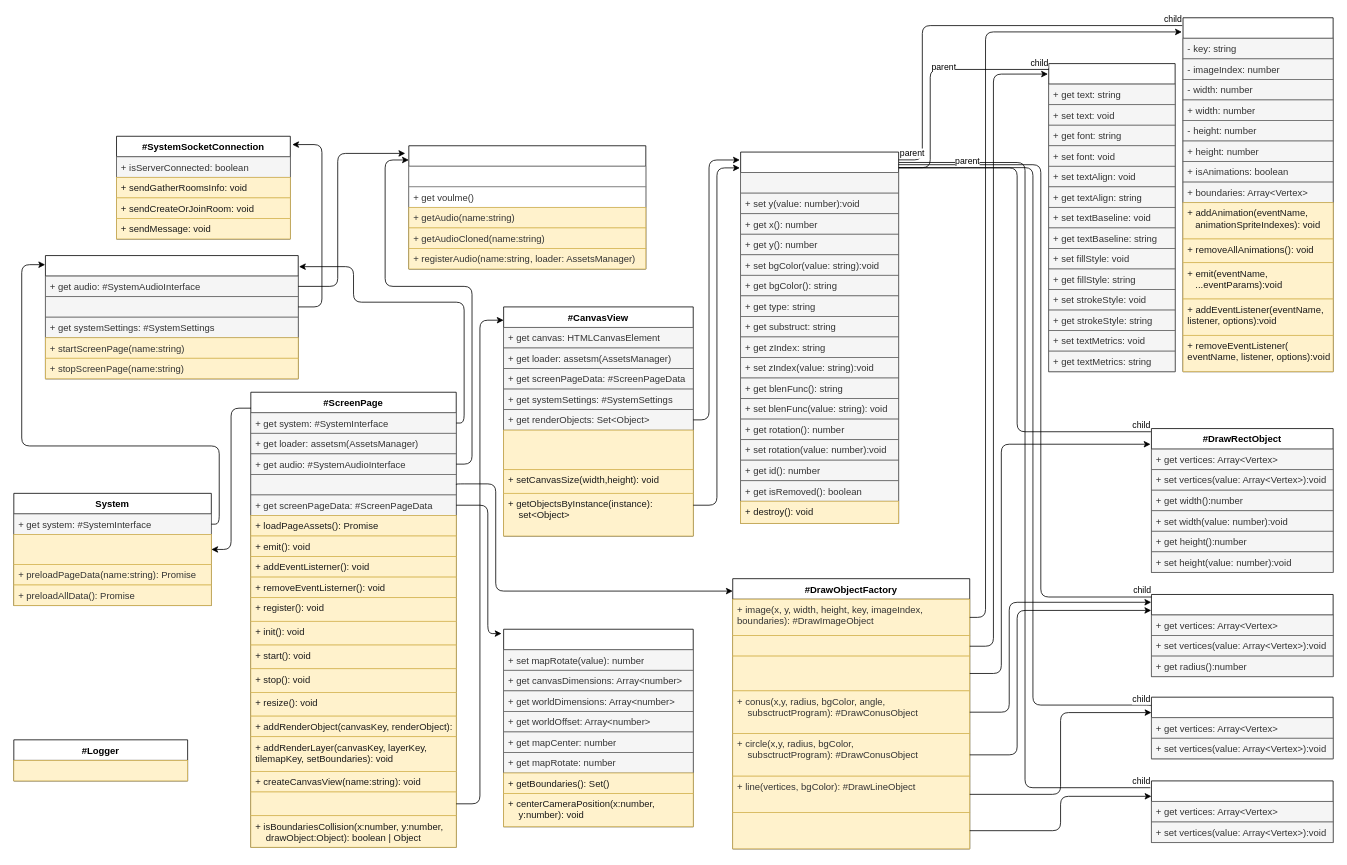
Image size: 1347x865. Some labels were removed from this diagram. The box of each missing label's shape, as (x1, y1, x2, y2) in pixels:
#DrawConusObject: (1151, 594, 1333, 677)
#DrawImageObject: (1182, 17, 1333, 372)
#DrawLineObject: (1151, 696, 1333, 759)
#DrawPolygonObject: (1151, 780, 1333, 843)
#DrawShapeObject: (740, 151, 899, 523)
#DrawTextObject: (1048, 63, 1175, 372)
#ScreenPageData: (503, 628, 693, 827)
#SystemAudioInterface: (408, 145, 646, 269)
#SystemInterface: (45, 255, 298, 379)
+ debug(...args):void: (13, 760, 188, 781)
+ get draw: #DrawObjectFactory: (250, 474, 456, 495)
+ get network: #SystemSocketConnection: (45, 296, 298, 317)
+ getDrawContext(gco): CanvasRenderingContext2d: (503, 429, 693, 470)
+ getView(key:string): #CanvasView: (250, 791, 456, 816)
+ polygon(vertices, bgColor, substructProgram): #DrawPolygonObject: (732, 812, 970, 849)
+ rect(x,y, width, height, backgroundColor, substructProgram): #DrawRectObject: (732, 655, 970, 691)
+ registerPage(name:string, screen: #ScreenPage): (13, 534, 211, 564)
+ set voulme(value:number): (408, 166, 646, 187)
+ set x(value: number):void: (740, 172, 899, 193)
+ text(x,y, text, font, color): #DrawTextObject: (732, 635, 970, 656)
